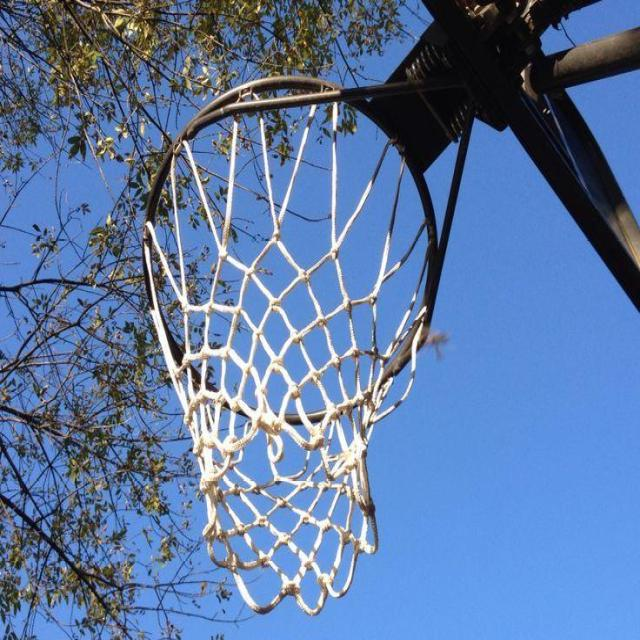hoop: (123, 120, 471, 621)
